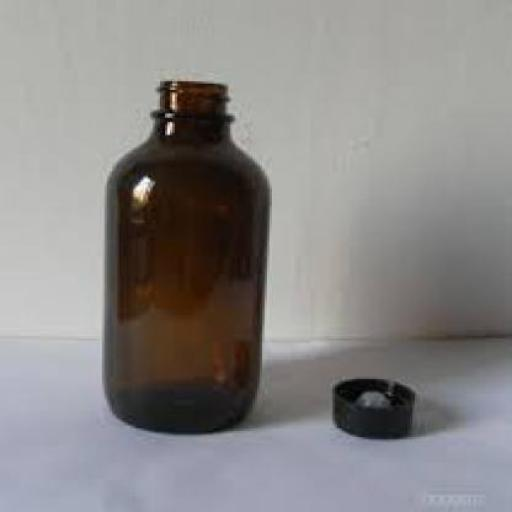glass: (102, 80, 265, 432)
plastic: (330, 374, 415, 438)
